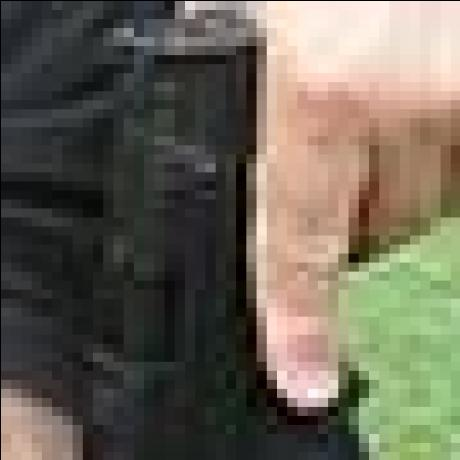1: (194, 0, 460, 397)
weapon: (72, 7, 264, 460)
